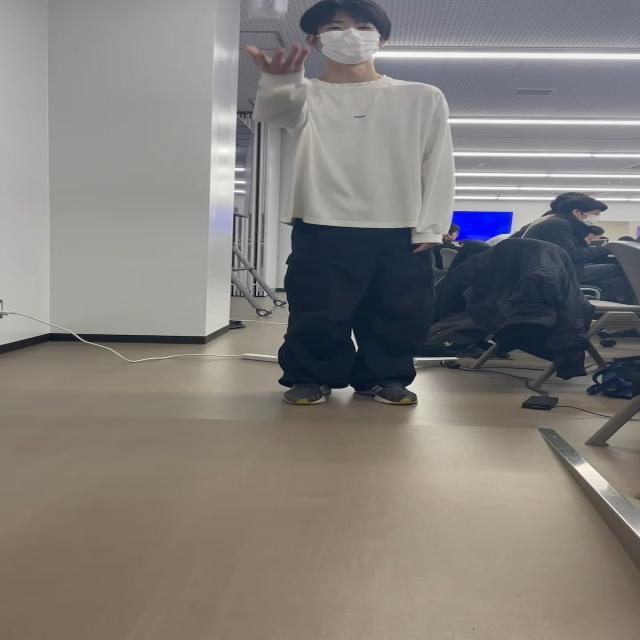paper: (241, 0, 288, 20)
